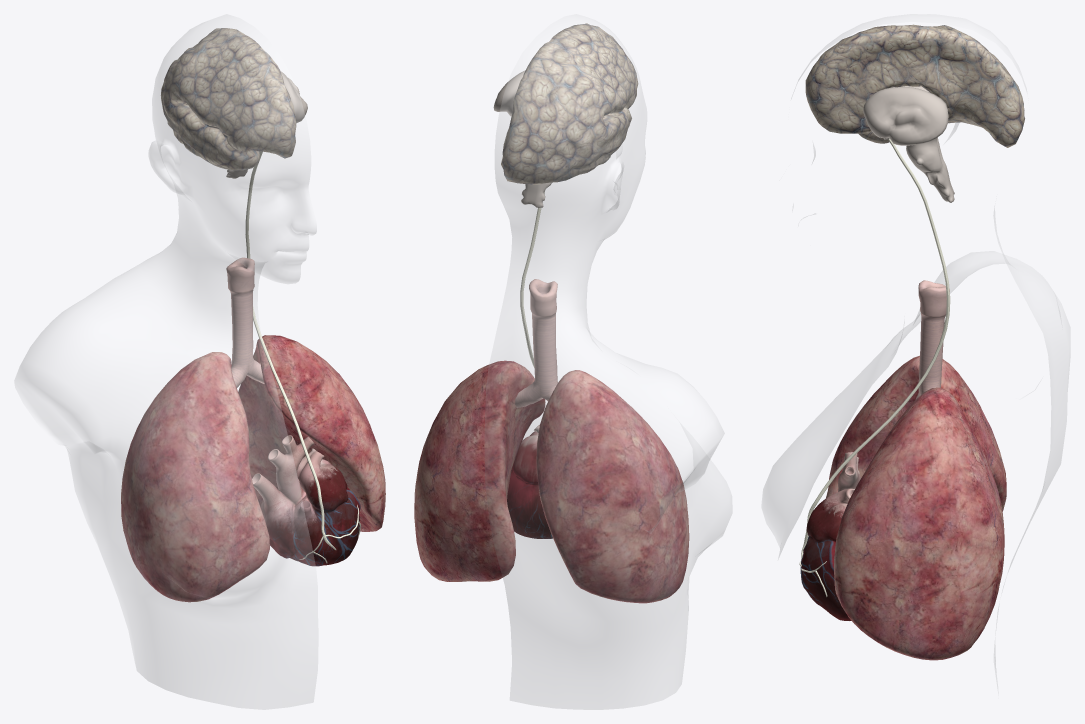
Rendered from human_stress_v01.gltf.
The picture shows the model from 3 angles, left to right: view 1: azimuth 30°, elevation 25°; view 2: azimuth 150°, elevation 25°; view 3: azimuth 270°, elevation 25°; orthographic projection. The views are drawn at different scales.
Parts seen in each view (by area): view 1: mesh_body, mesh_lungs, mesh_brain, mesh_heart, mesh_trachea, mesh_mid_brain; view 2: mesh_body, mesh_lungs, mesh_brain, mesh_heart, mesh_trachea, mesh_mid_brain; view 3: mesh_lungs, mesh_brain, mesh_body, mesh_heart, mesh_mid_brain, mesh_trachea.
Part boxes in pixels (bbox=[...]): mesh_body: bbox=[14, 14, 318, 709]; mesh_lungs: bbox=[121, 335, 385, 602]; mesh_brain: bbox=[160, 28, 296, 170]; mesh_heart: bbox=[245, 151, 360, 566]; mesh_trachea: bbox=[226, 257, 264, 388]; mesh_mid_brain: bbox=[226, 71, 307, 178]; mesh_body: bbox=[485, 14, 732, 709]; mesh_lungs: bbox=[414, 360, 689, 603]; mesh_brain: bbox=[501, 23, 638, 184]; mesh_heart: bbox=[507, 190, 552, 538]; mesh_trachea: bbox=[515, 279, 557, 407]; mesh_mid_brain: bbox=[493, 70, 552, 207]; mesh_lungs: bbox=[826, 355, 1006, 660]; mesh_brain: bbox=[805, 24, 1024, 147]; mesh_body: bbox=[761, 14, 1070, 692]; mesh_heart: bbox=[799, 138, 950, 620]; mesh_mid_brain: bbox=[863, 86, 954, 202]; mesh_trachea: bbox=[915, 280, 949, 399].
Bounding box in the file's own units: 0.3191 × 0.6217 × 0.2536.
3 materials, 1 textured.
